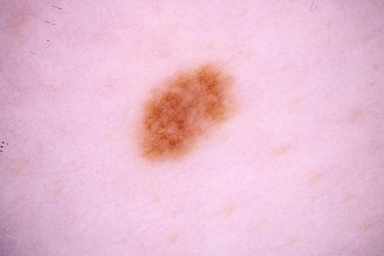nevus: (140, 70, 231, 160)
